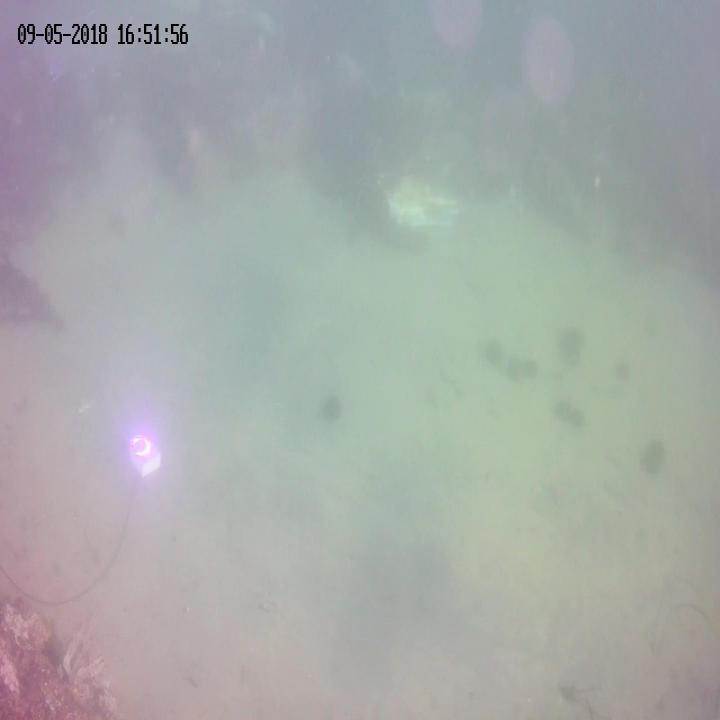echinus: (558, 323, 580, 357), (643, 438, 663, 472), (484, 336, 503, 367), (507, 354, 522, 386), (323, 394, 340, 422), (614, 360, 630, 386), (556, 394, 570, 421), (572, 403, 584, 429), (524, 356, 536, 380)
